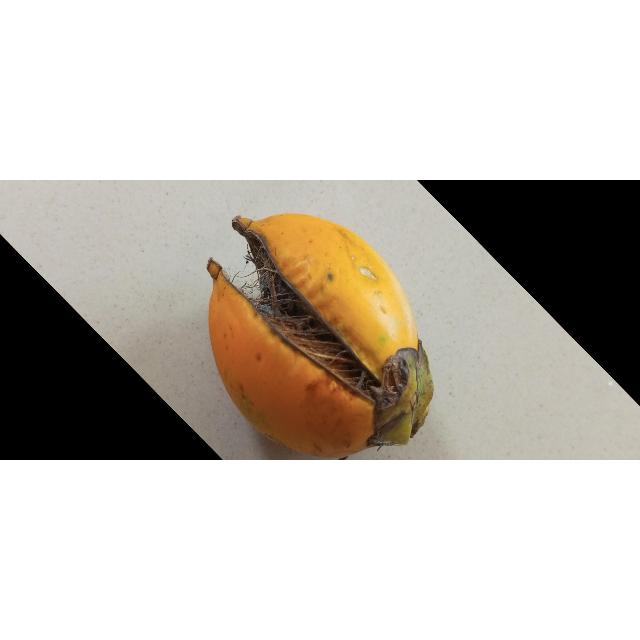damaged: (206, 214, 433, 458)
